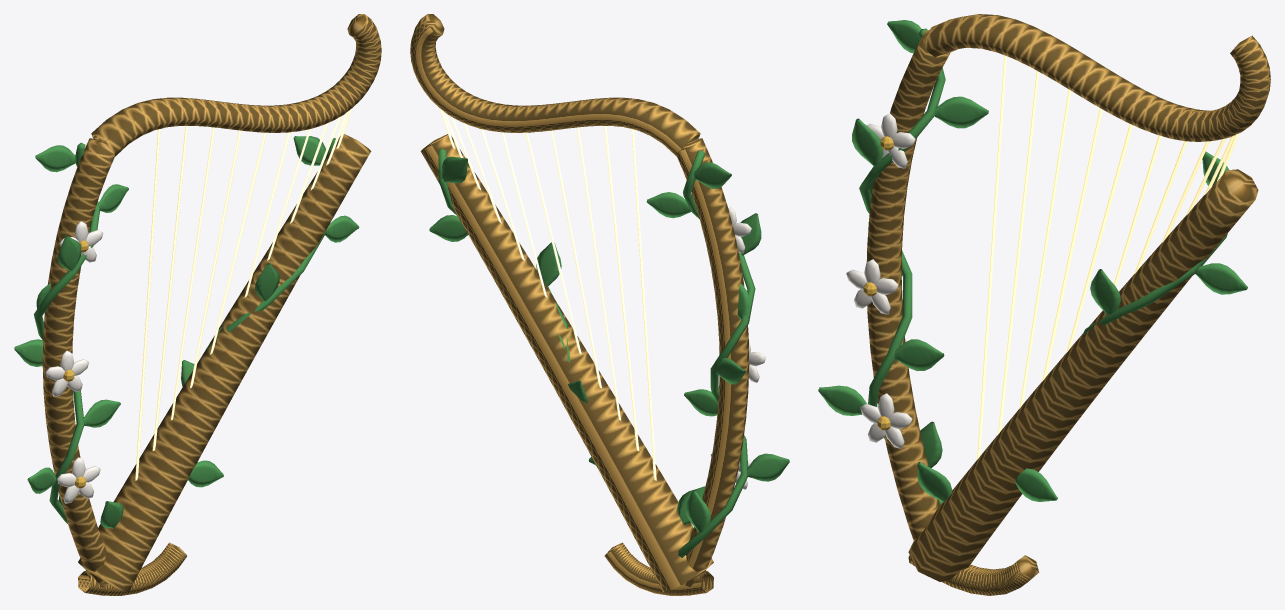
Rendered from harp.glb.
3 renders of one model, left to right at view 1: azimuth 30°, elevation 25°; view 2: azimuth 150°, elevation 25°; view 3: azimuth 330°, elevation 25°, orthographic. The views are drawn at different scales.
Visible parts, largest first — view 1: Harp; view 2: Harp; view 3: Harp.
Part boxes in pixels (x1,y1,x2,y2): Harp: (14,14,381,595); Harp: (410,14,789,595); Harp: (818,14,1270,595).
Bounding box in the file's own units: 0.3889 × 0.53 × 0.064.
Materials: 5 (1 with a texture image).
